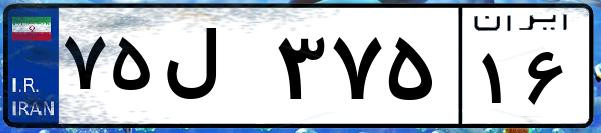1: (475, 38, 525, 113)
3: (270, 28, 330, 110)
5: (385, 28, 445, 110), (110, 28, 158, 98)
6: (525, 38, 570, 115)
7: (330, 28, 385, 110), (57, 26, 110, 100)
ل: (158, 20, 270, 120)
